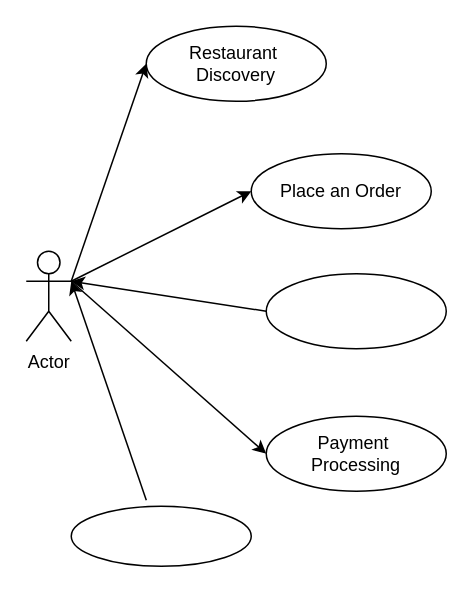
The diagram is 473 pixels wide and 593 high, and some of its shapes have lost their labels. The shapes that lost their labels are listed below. From the top down, each one's centre as x and y in pixels, then its label:
point 355,310: Track Order
point 160,535: Notification
